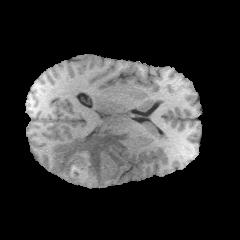glioma: (51, 129, 129, 187)
